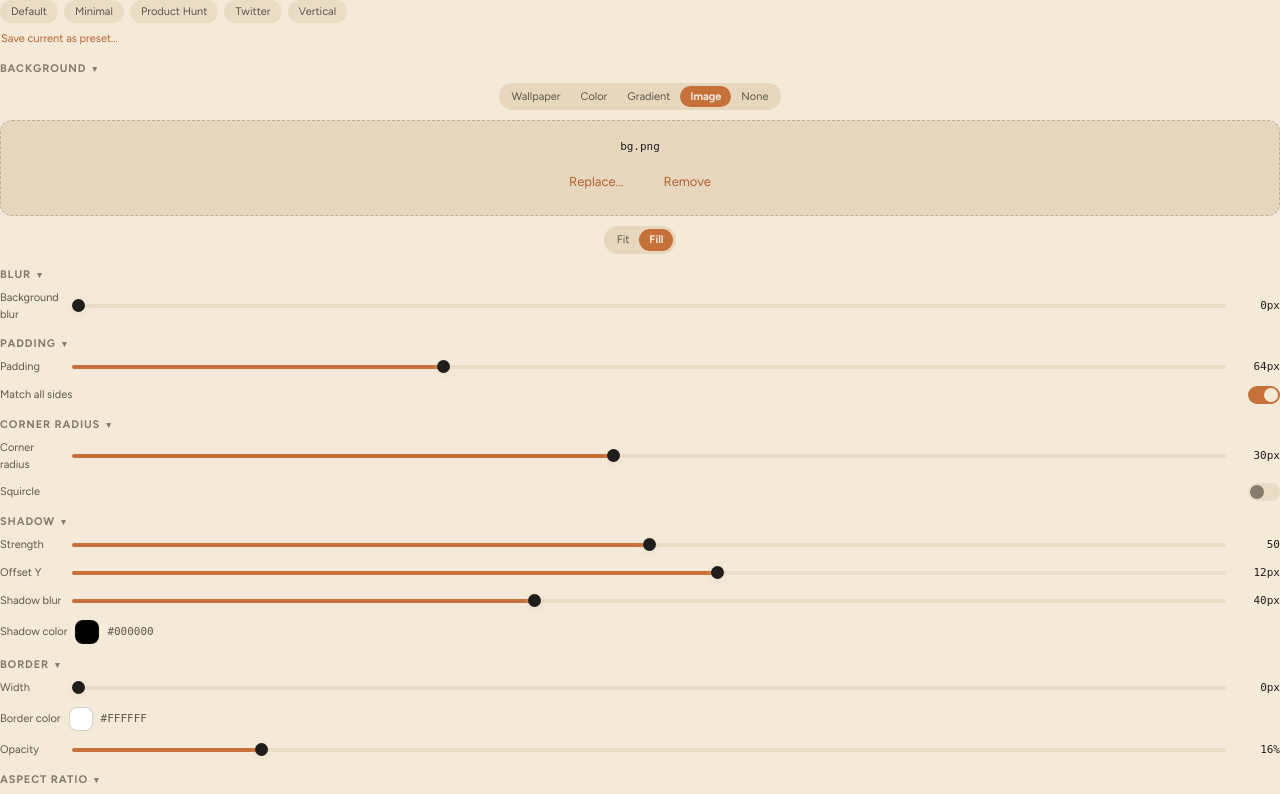
Scenario: Frame tab — presets with a background image › does not save the preset when the image can't be stored
The image size is (1280, 794).
Click the button "Save current as preset…": (59, 39) [0,29,119,48]
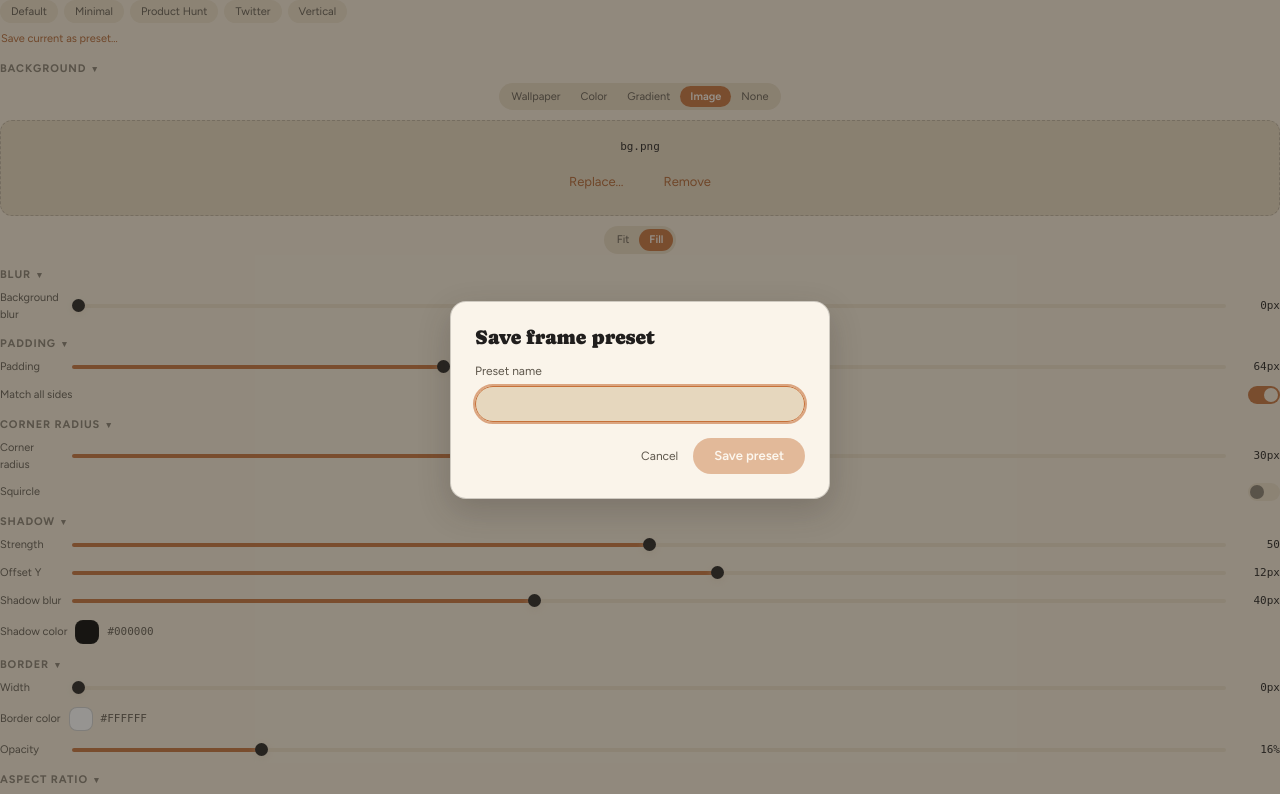
In the field labelled "Preset name": (640, 404) [475,386,805,422], type "Branded"
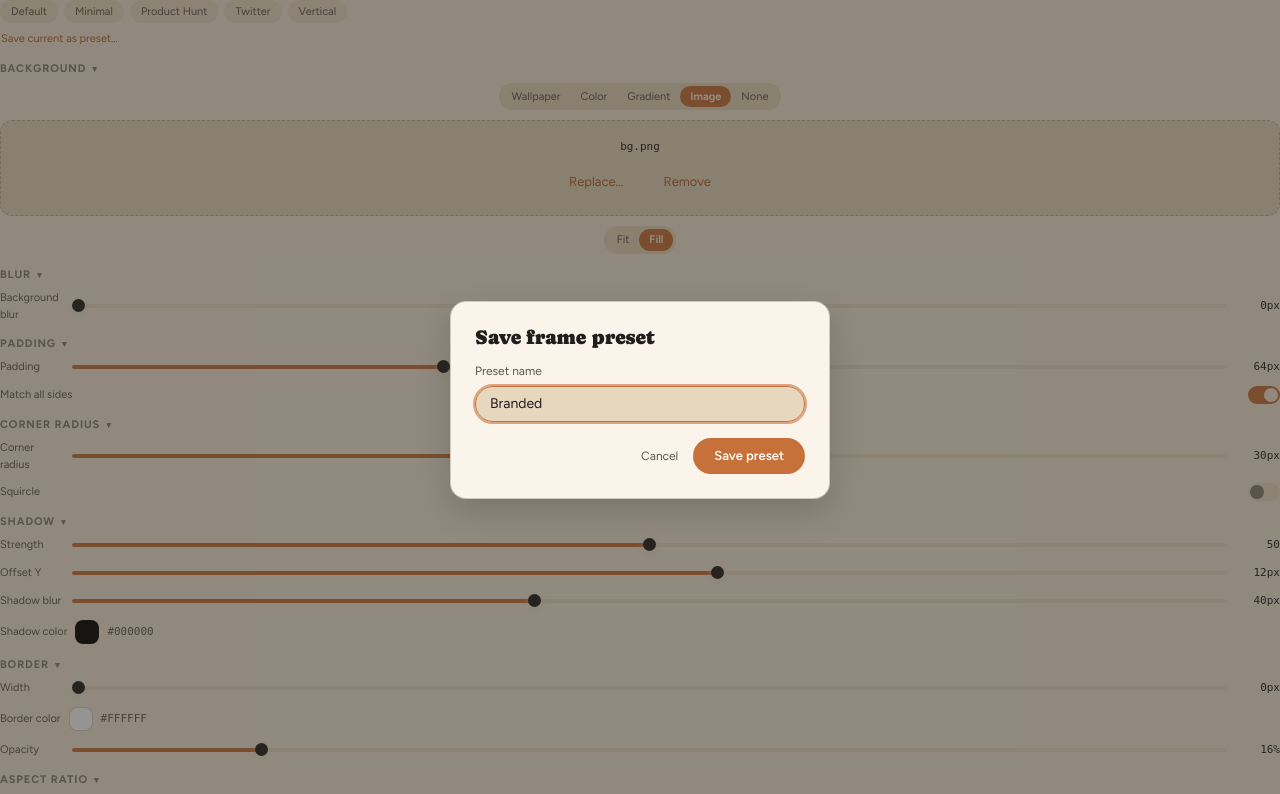
Click the button "Save preset": (749, 456) [693,438,805,474]
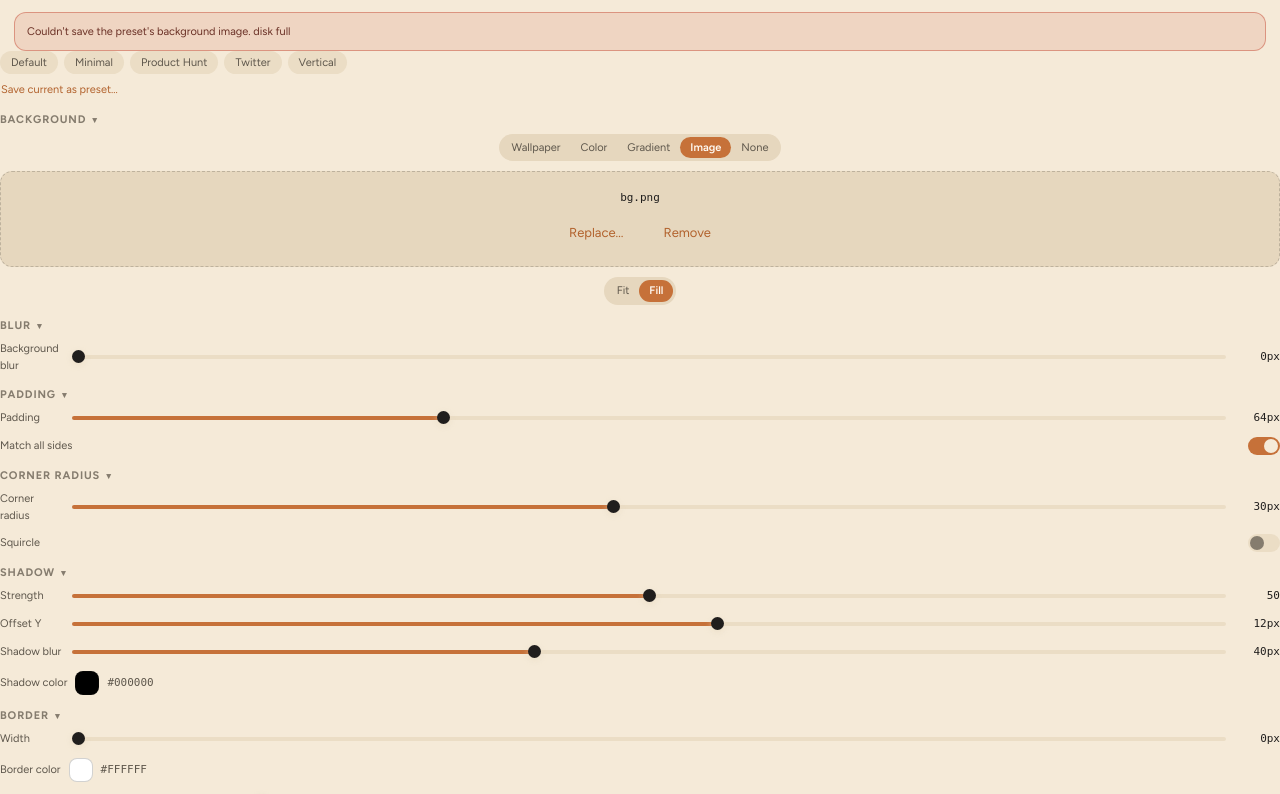
Check: the message reads "Couldn't save the preset's background image. disk full", box [27,25,290,38]
